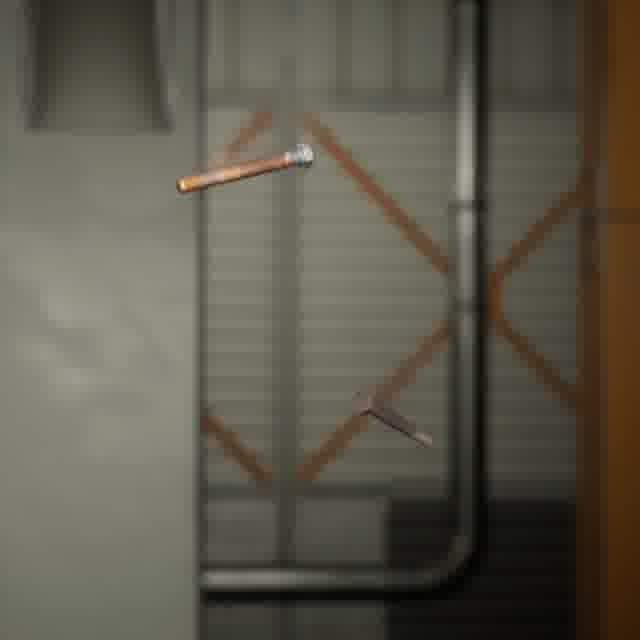bolt: (171, 138, 317, 197), (346, 384, 436, 450)
